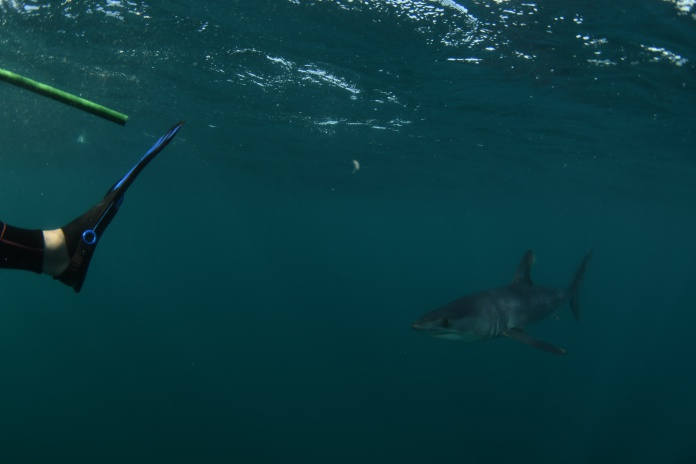Mako: (401, 240, 612, 368)
